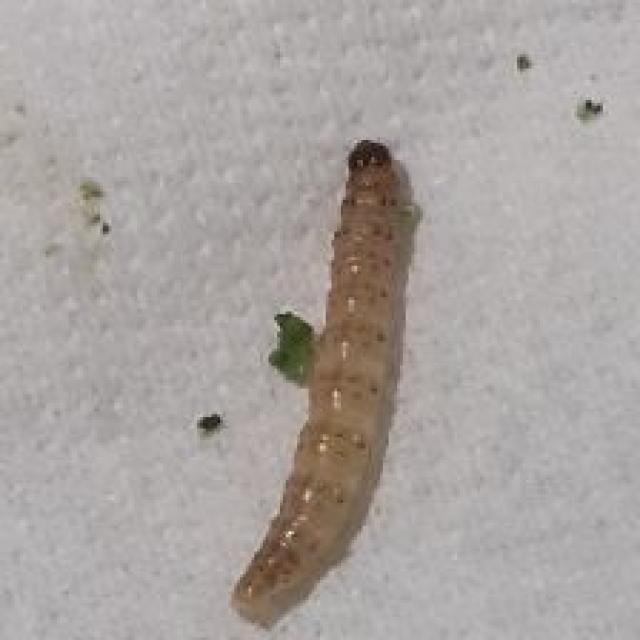white mucus: (201, 110, 451, 620)
